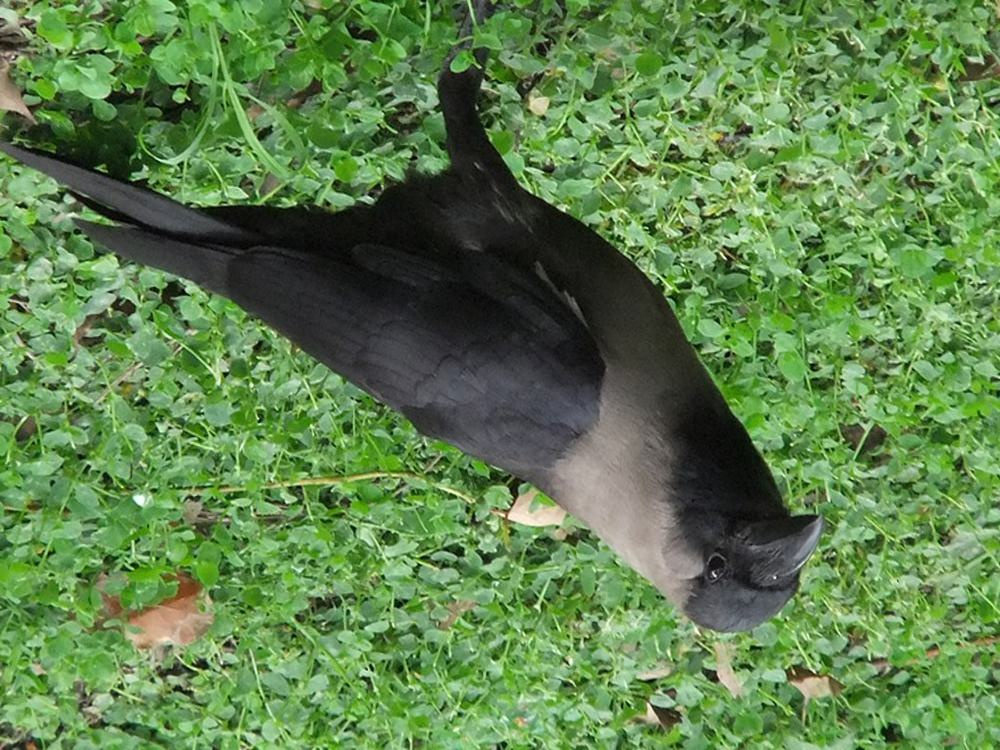crow: (22, 89, 832, 641)
